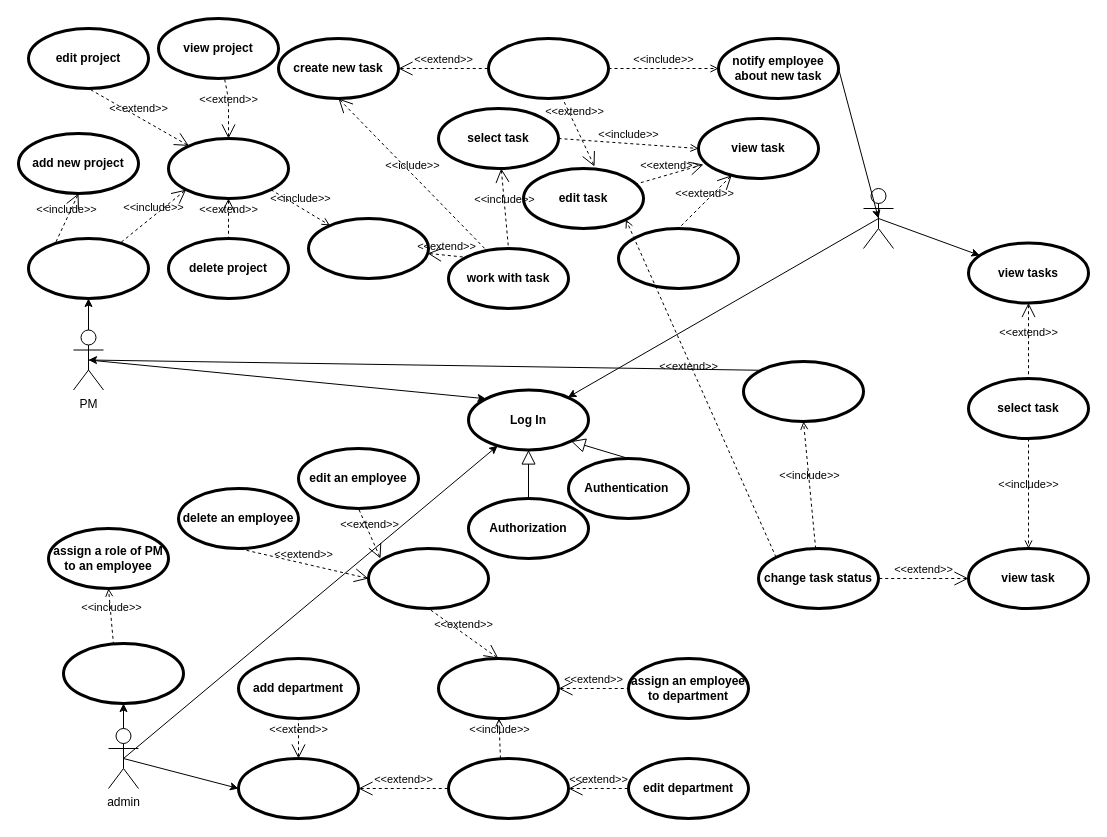
This 1107x837 diagram has some shape labels left out. The box of each missing label's shape, as (x1, y1, x2, y2) in pixels:
assign task to employee: (486, 36, 610, 100)
create a new employee: (62, 642, 184, 704)
delete task: (616, 226, 740, 290)
employee: (862, 188, 894, 248)
notify PM about new task status: (742, 360, 864, 422)
select department: (446, 756, 570, 820)
select project: (166, 136, 290, 200)
view departments: (236, 756, 360, 820)
view employee: (366, 546, 490, 610)
view employees of department: (436, 656, 560, 720)
view tasks for project: (306, 216, 430, 280)
work with project: (26, 236, 150, 300)
